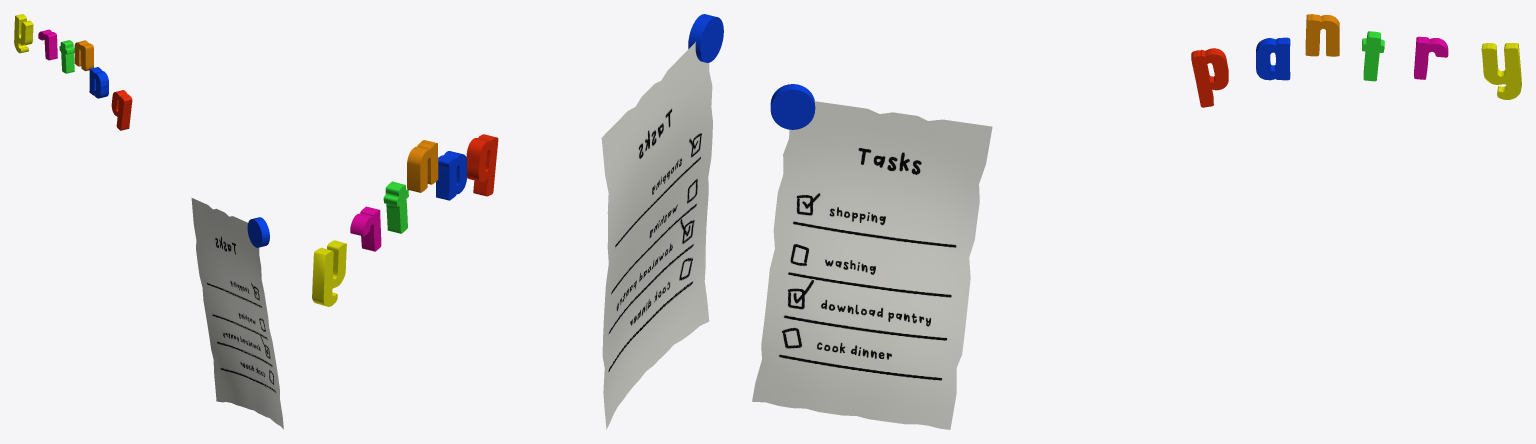
The model's file is magnets.glb.
The picture shows the model from 3 angles, left to right: view 1: azimuth 30°, elevation 25°; view 2: azimuth 150°, elevation 25°; view 3: azimuth 270°, elevation 25°; orthographic projection. The views are drawn at different scales.
Visible parts, largest first — view 1: Plane.001, P, Y, Cylinder, A, N, T, R; view 2: Plane.001, Y, P, N, Cylinder, A, T, R; view 3: Plane.001, Y, Cylinder, P, A, N, R, T.
Boxes of the visible parts, bbox=[...] form: Plane.001: bbox=[191, 198, 283, 429]; P: bbox=[111, 90, 132, 130]; Y: bbox=[14, 14, 33, 53]; Cylinder: bbox=[247, 217, 269, 247]; A: bbox=[89, 67, 108, 98]; N: bbox=[74, 40, 93, 71]; T: bbox=[59, 40, 74, 73]; R: bbox=[38, 29, 57, 60]; Plane.001: bbox=[601, 42, 712, 429]; Y: bbox=[312, 240, 346, 306]; P: bbox=[466, 134, 498, 196]; N: bbox=[407, 140, 438, 192]; Cylinder: bbox=[688, 14, 723, 62]; A: bbox=[436, 151, 466, 200]; T: bbox=[383, 181, 408, 233]; R: bbox=[350, 206, 381, 251]; Plane.001: bbox=[752, 101, 992, 429]; Y: bbox=[1481, 43, 1521, 99]; Cylinder: bbox=[770, 84, 815, 129]; P: bbox=[1191, 48, 1228, 107]; A: bbox=[1256, 37, 1290, 80]; N: bbox=[1305, 14, 1339, 56]; R: bbox=[1414, 36, 1448, 79]; T: bbox=[1362, 31, 1384, 81].
Size of the model in its own units: 0.052 by 0.6573 by 1.13.
7 materials, 1 textured.
